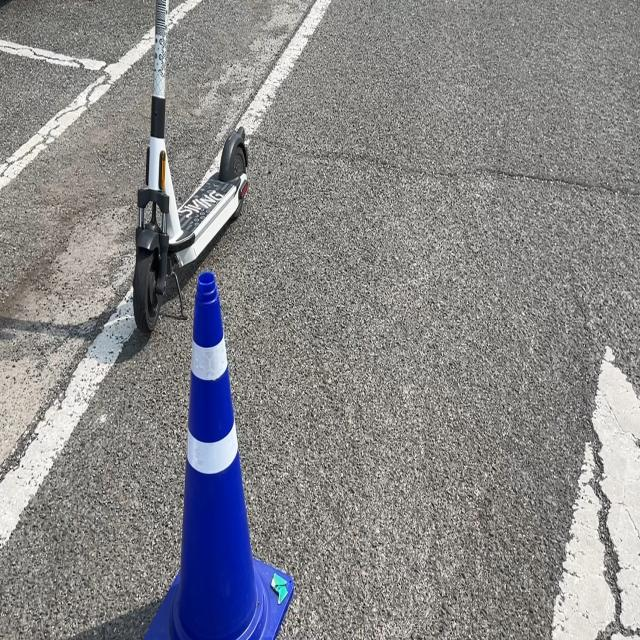b_rub: (144, 271, 294, 640)
